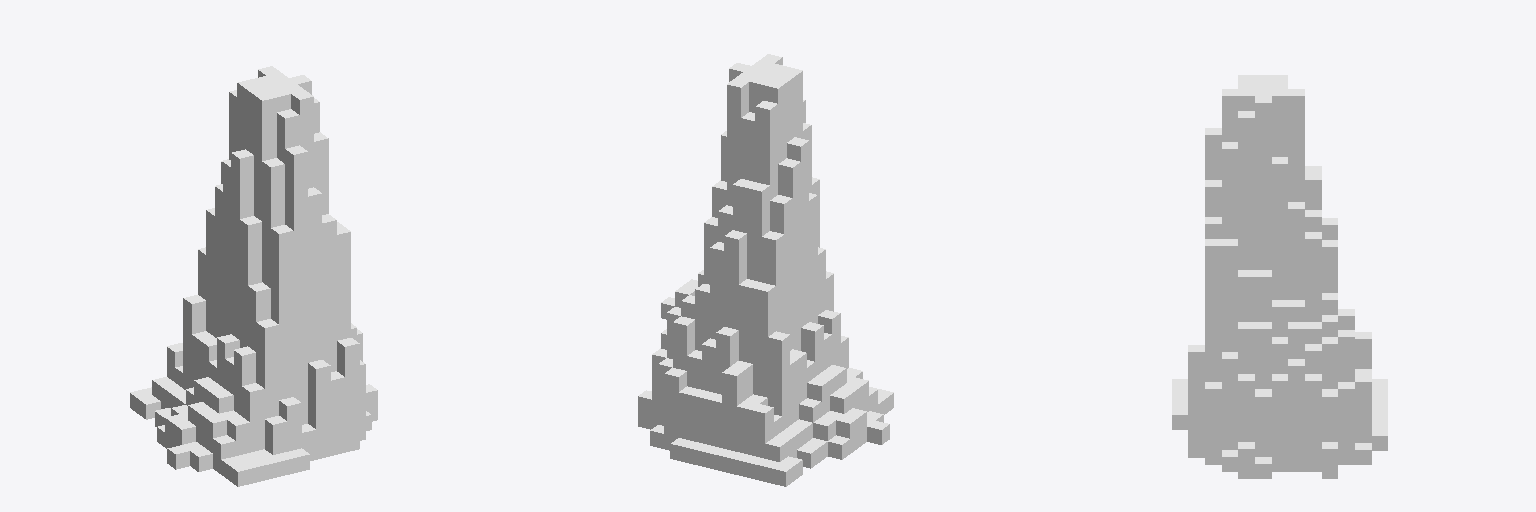
The model's file is rock-colomn.vox.obj.
The picture shows the model from 3 angles: view 1: azimuth 30°, elevation 25°; view 2: azimuth 150°, elevation 25°; view 3: azimuth 270°, elevation 25°; orthographic projection.
Visible parts, largest first — view 1: object 1; view 2: object 1; view 3: object 1.
Part boxes in pixels (left/top/right/bottom): object 1: left=130, top=66, right=377, bottom=486; object 1: left=638, top=54, right=893, bottom=486; object 1: left=1172, top=75, right=1387, bottom=478.
Size of the model in its own units: 1.4 by 2.3 by 1.3.